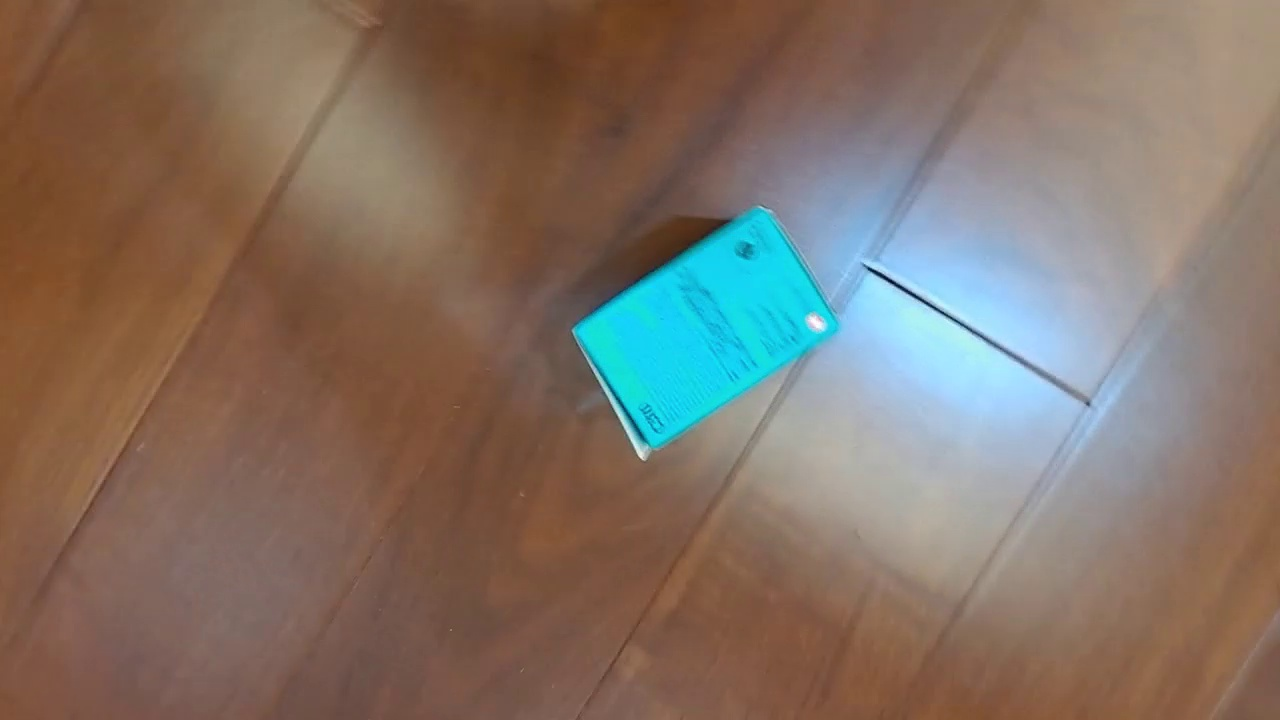webcam: (569, 201, 844, 462)
